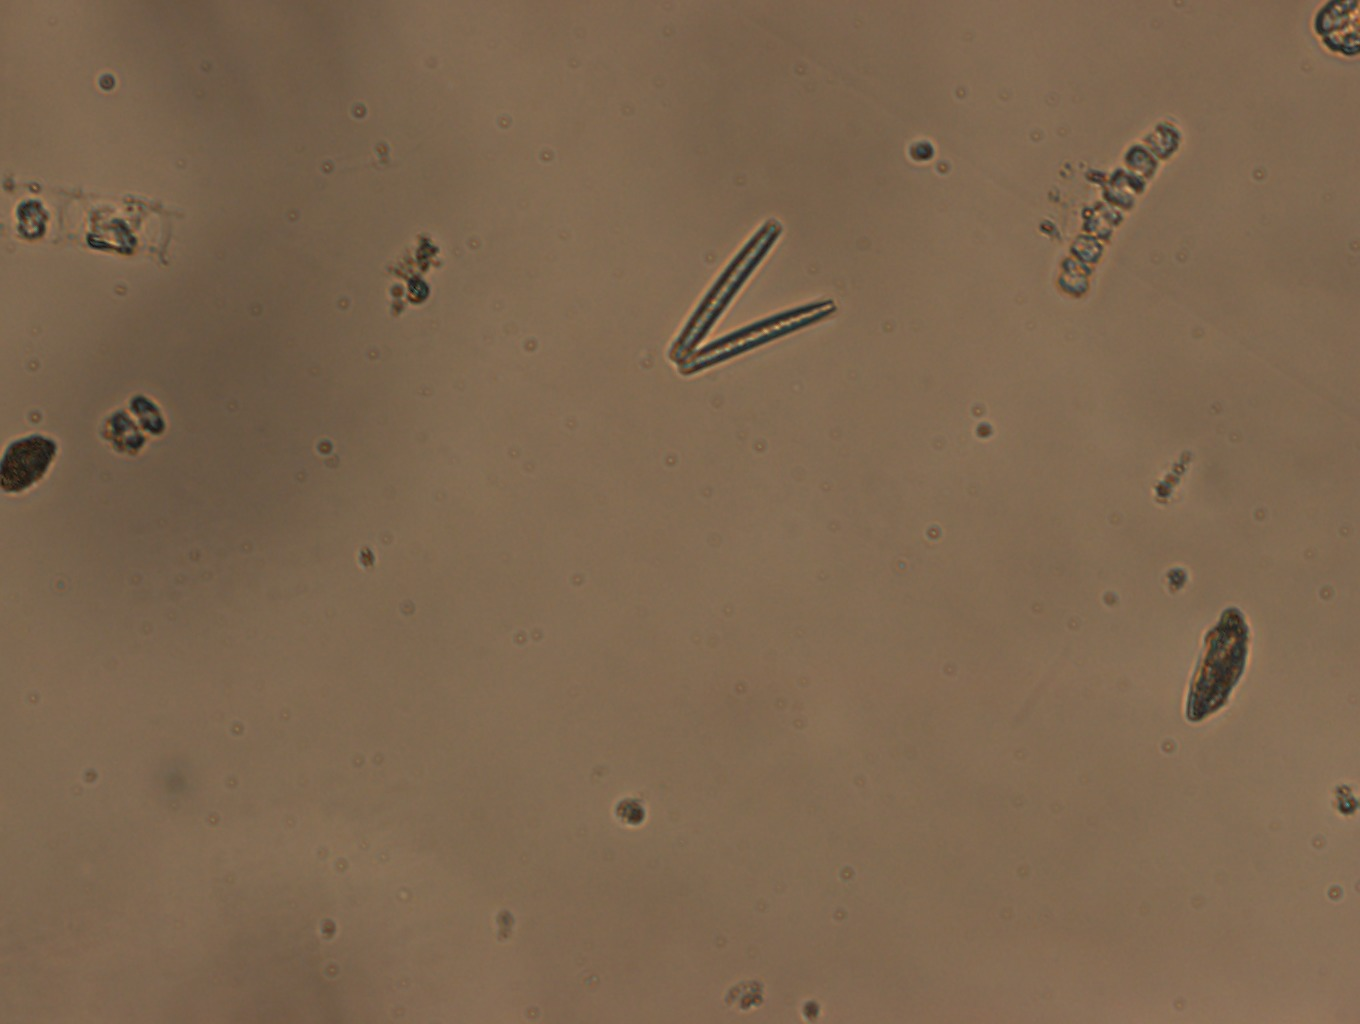thalassionema nitzschioides: (664, 219, 836, 376), (1059, 119, 1184, 296)
